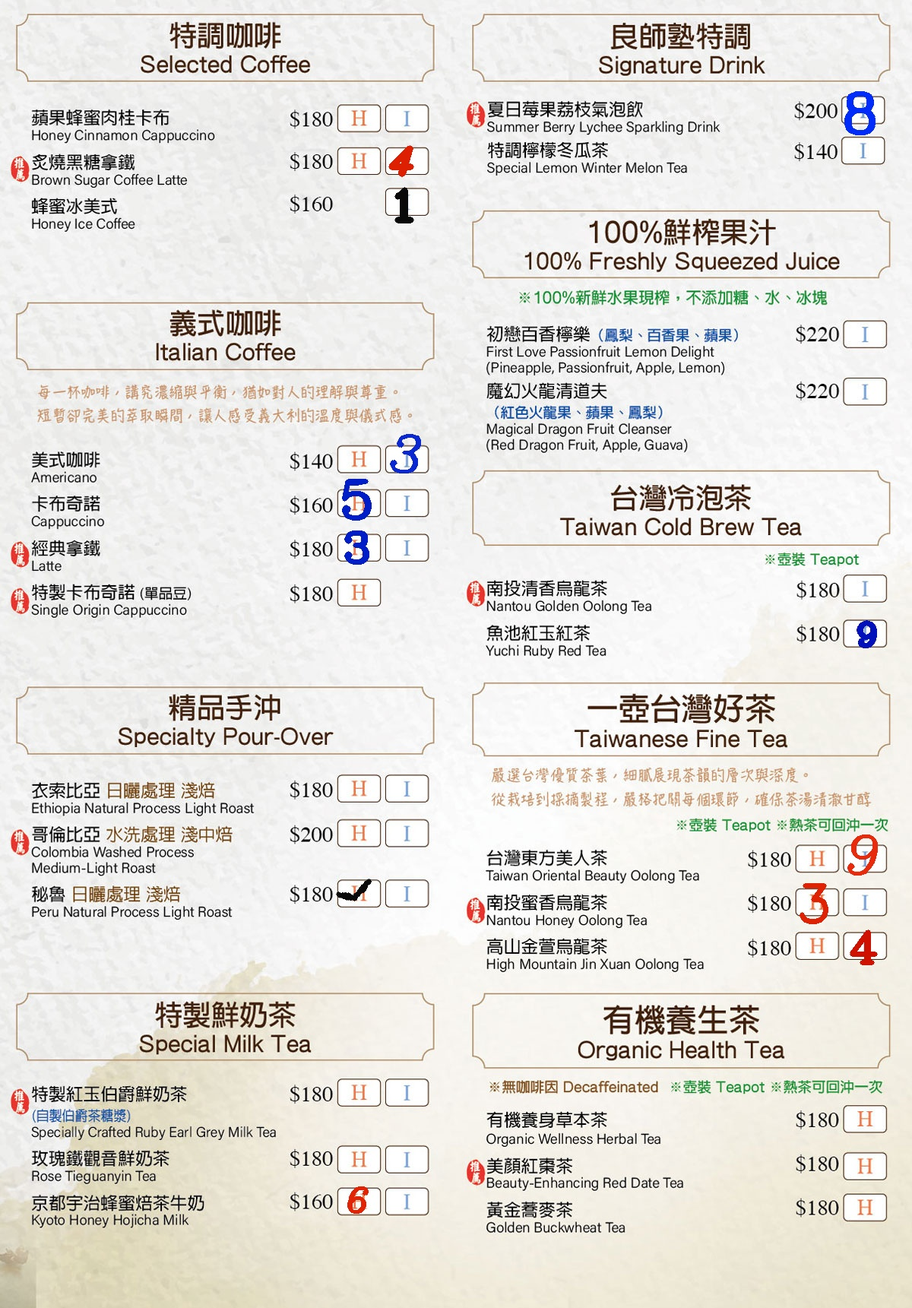marked_number_1: (387, 190, 426, 214)
marked_number_3: (339, 535, 378, 559), (388, 446, 426, 470), (799, 892, 838, 915)
marked_number_4: (844, 934, 883, 958), (389, 149, 428, 173)
marked_number_5: (339, 489, 378, 513)
marked_number_6: (340, 1189, 379, 1212)
marked_number_8: (844, 98, 883, 122)
marked_number_9: (844, 845, 883, 869), (845, 622, 884, 646)
marked_tick: (338, 879, 377, 903)
